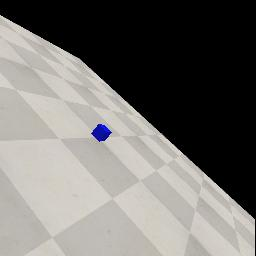box: (91, 124, 112, 142)
